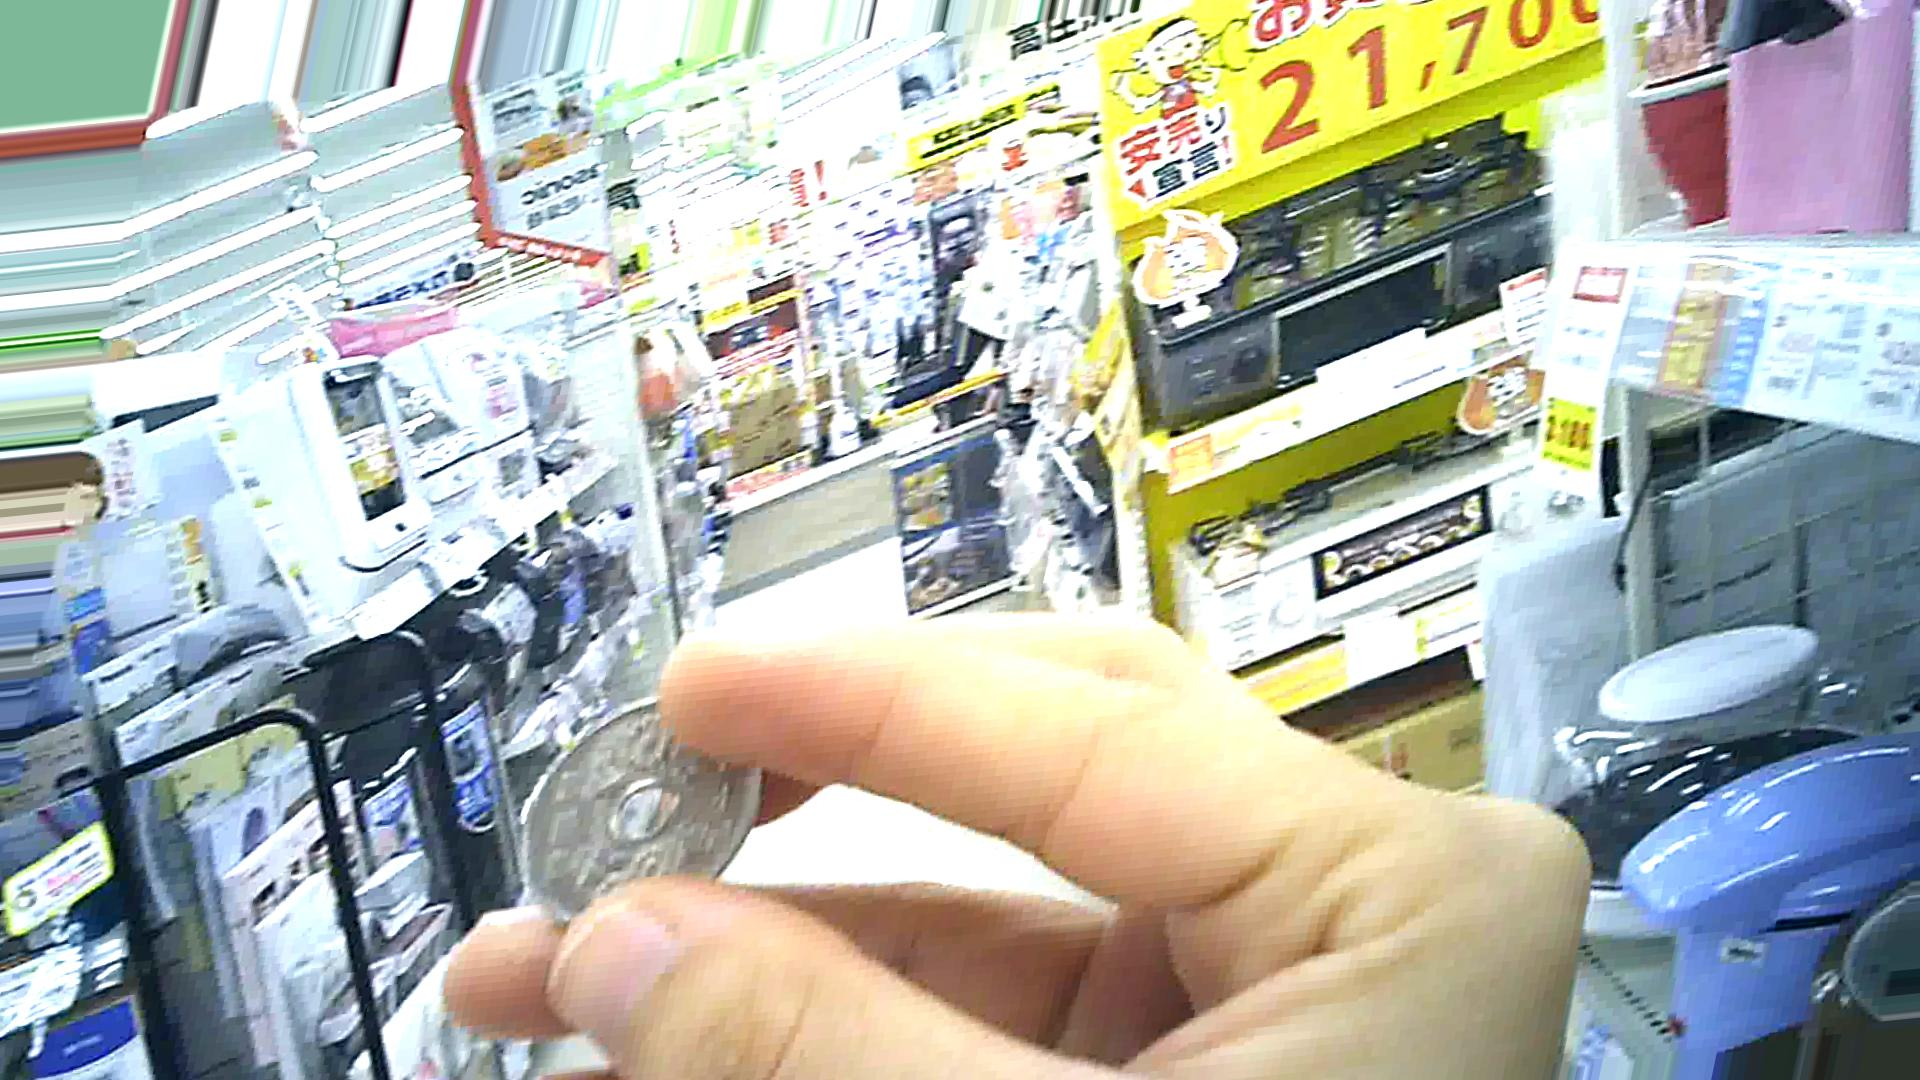50 Yen: (497, 694, 762, 960)
